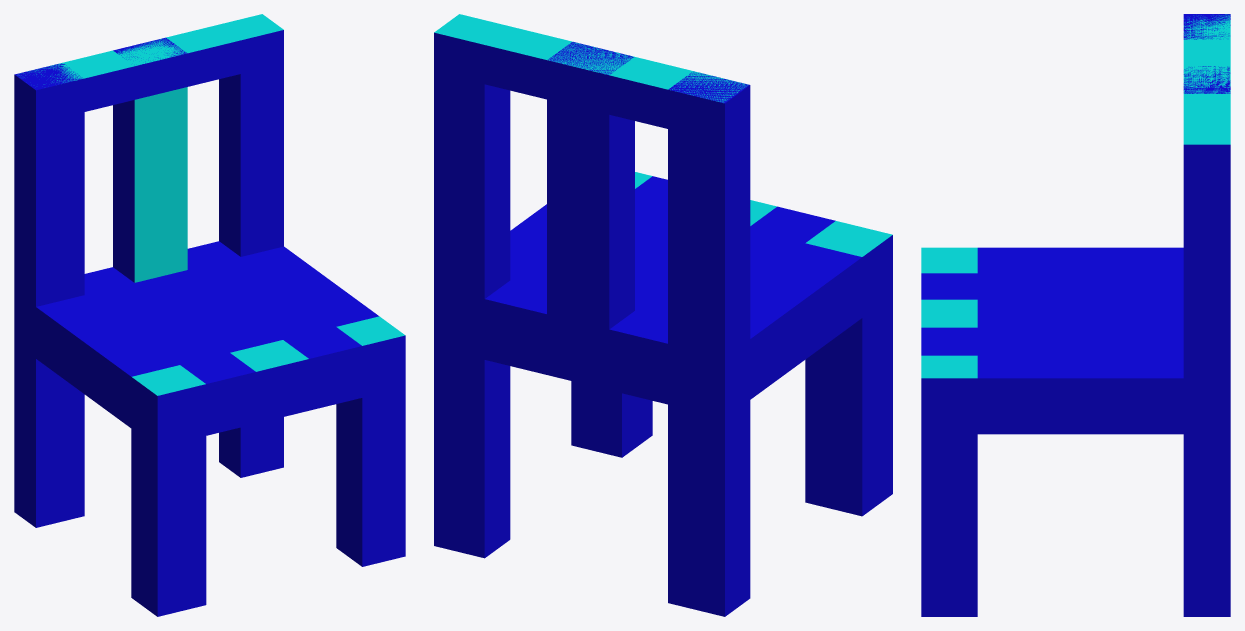
The model's file is Chair.fbx.
3 renders of one model, left to right at view 1: azimuth 30°, elevation 25°; view 2: azimuth 150°, elevation 25°; view 3: azimuth 270°, elevation 25°, orthographic. The views are drawn at different scales.
Parts seen in each view (by area): view 1: Cube; view 2: Cube; view 3: Cube.
Part boxes in pixels (x1,y1,x2,y2): Cube: [14, 14, 405, 616]; Cube: [434, 14, 892, 616]; Cube: [921, 14, 1230, 616].
Size of the model in its own units: 200 by 337 by 200.
